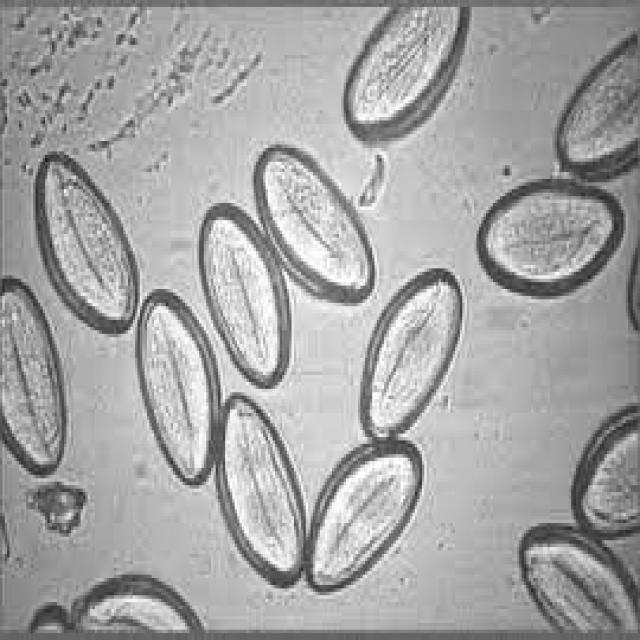Enterobius Vermicularis: (300, 432, 430, 607), (353, 256, 467, 449), (30, 145, 144, 337), (248, 133, 376, 304), (130, 286, 230, 499), (470, 172, 632, 303), (211, 385, 310, 599), (337, 0, 476, 152), (196, 200, 295, 392), (0, 268, 74, 482), (514, 516, 638, 637), (548, 28, 638, 192), (564, 399, 638, 547)
